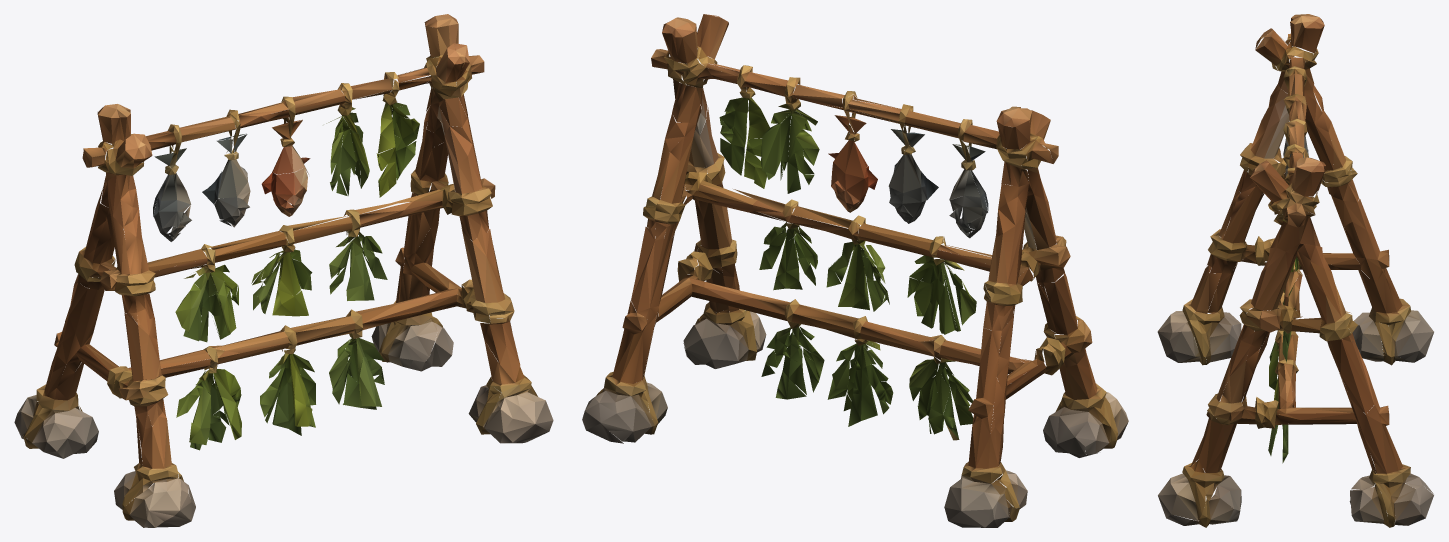
Rendered from building-dryingRack.glb.
3 views of the same model, side by side, from view 1: azimuth 30°, elevation 25°; view 2: azimuth 150°, elevation 25°; view 3: azimuth 270°, elevation 25° (orthographic). The views are drawn at different scales.
Visible parts, largest first — view 1: 0_dryingRack; view 2: 0_dryingRack; view 3: 0_dryingRack.
Part boxes in pixels (x1=…): 0_dryingRack: x1=14, y1=14, x2=553, y2=527; 0_dryingRack: x1=582, y1=14, x2=1128, y2=527; 0_dryingRack: x1=1157, y1=14, x2=1433, y2=527.
Bounding box in the file's own units: 1.92 × 1.63 × 1.16.
